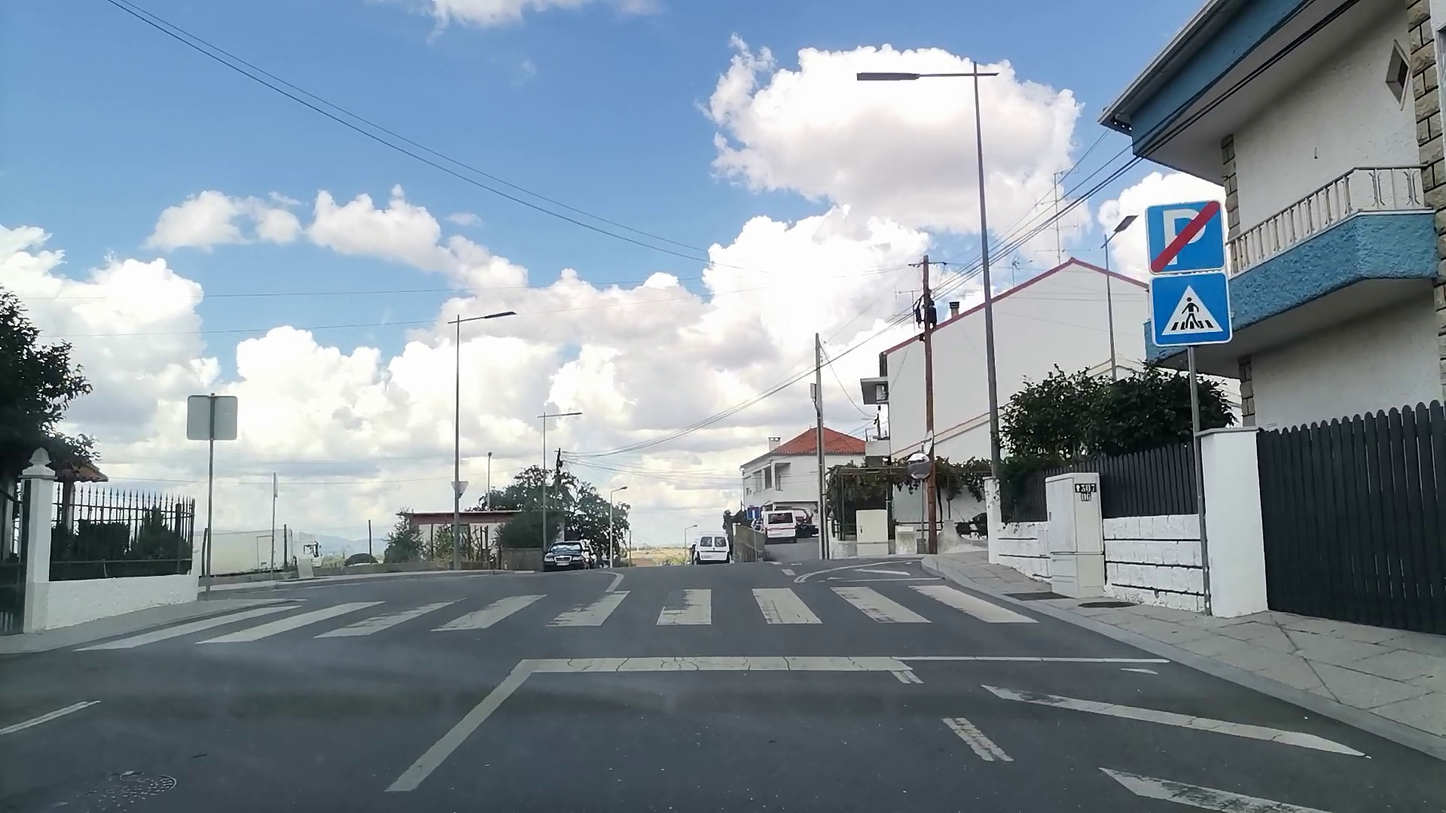Stairs: (77, 578, 1038, 651)
